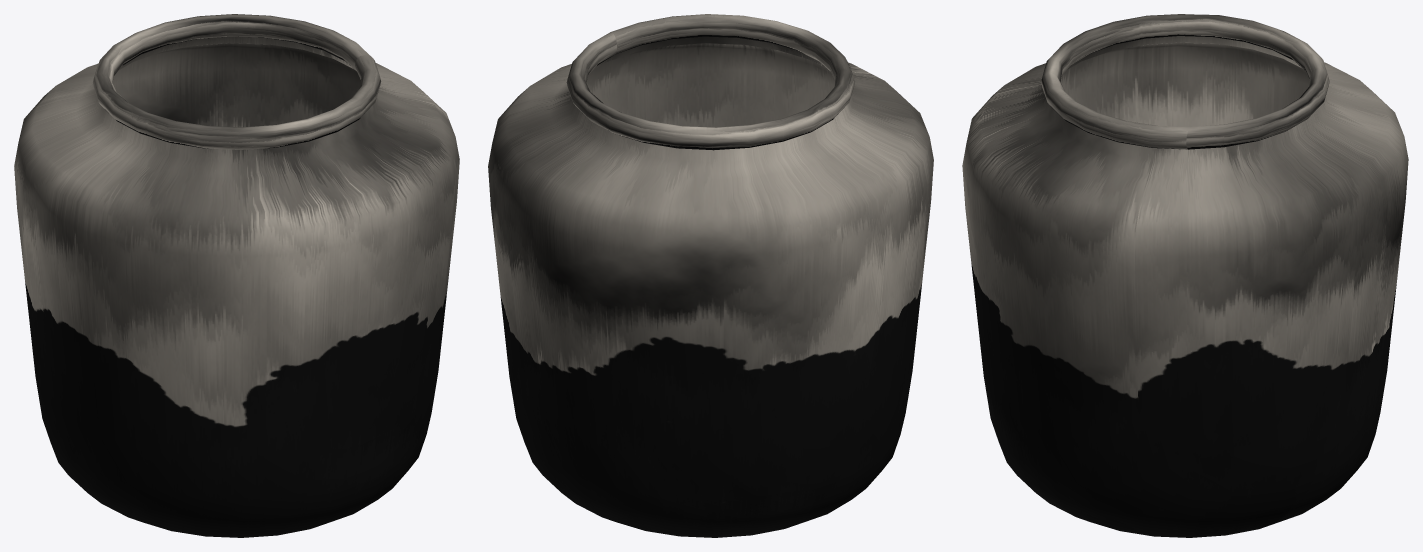
The model's file is tsubo1.fbx.
3 views of the same model, side by side, from view 1: azimuth 30°, elevation 25°; view 2: azimuth 150°, elevation 25°; view 3: azimuth 270°, elevation 25° (orthographic).
Visible parts, largest first — view 1: nurbsToPoly5, nurbsToPoly6; view 2: nurbsToPoly5, nurbsToPoly6; view 3: nurbsToPoly5, nurbsToPoly6.
Part boxes in pixels (x1,y1,x2,y2): nurbsToPoly5: (14, 36, 459, 537); nurbsToPoly6: (93, 14, 381, 149); nurbsToPoly5: (488, 36, 933, 537); nurbsToPoly6: (566, 14, 855, 150); nurbsToPoly5: (962, 36, 1408, 537); nurbsToPoly6: (1041, 14, 1329, 149).
Bounding box in the file's own units: 40.49 × 41.83 × 40.49.
